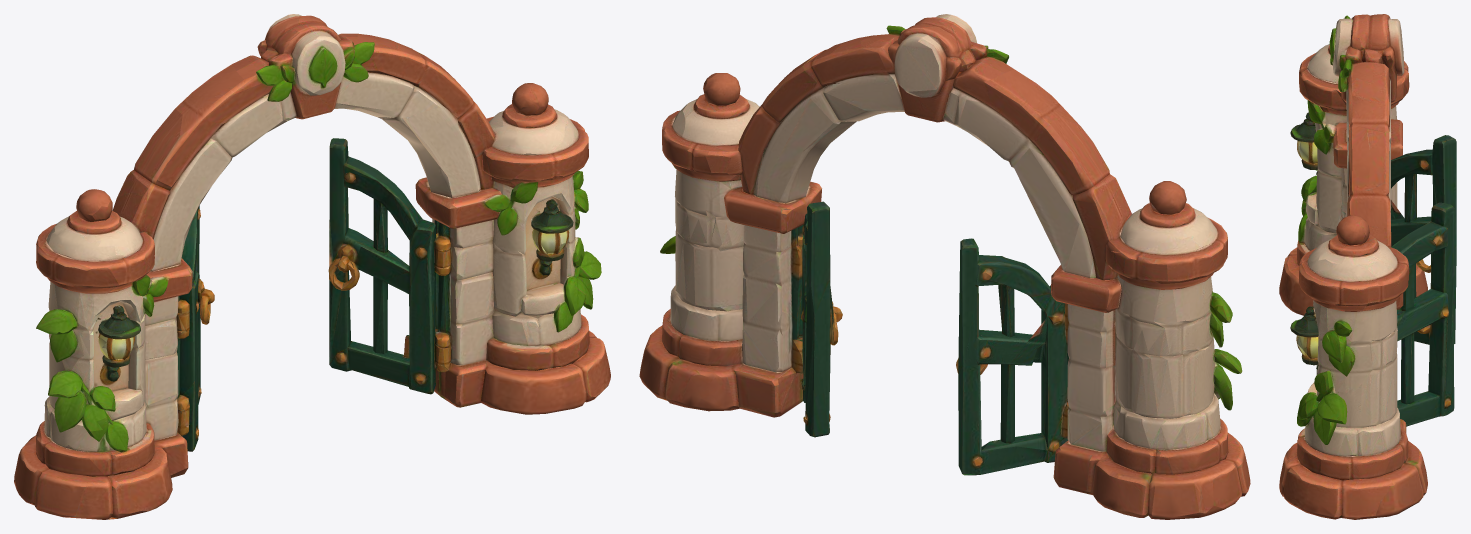
File: garden-gate.glb
3 renders of one model, left to right at view 1: azimuth 30°, elevation 25°; view 2: azimuth 150°, elevation 25°; view 3: azimuth 270°, elevation 25°, orthographic. The views are drawn at different scales.
Parts seen in each view (by area): view 1: output_unwrapped; view 2: output_unwrapped; view 3: output_unwrapped.
Part boxes in pixels (x1,y1,x2,y2): output_unwrapped: (14, 14, 610, 519); output_unwrapped: (639, 14, 1250, 519); output_unwrapped: (1279, 14, 1456, 519).
Size of the model in its own units: 1.9 by 1.29 by 0.5547.
Materials: 1 (1 with a texture image).
